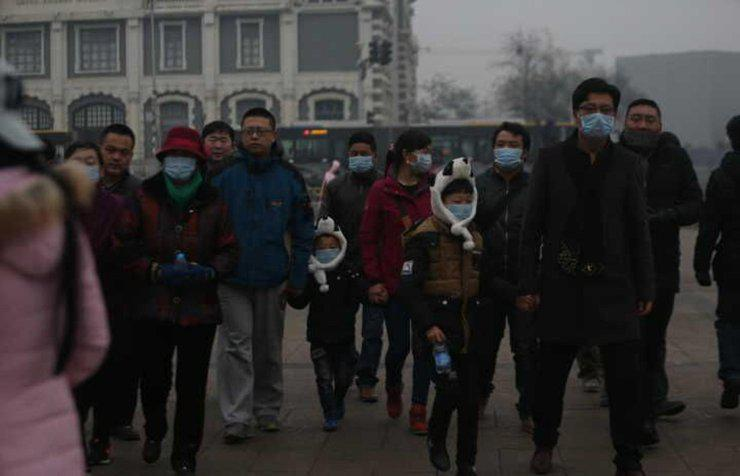NONE: (104, 142, 132, 175), (244, 122, 273, 152), (208, 137, 233, 160)
OK: (578, 98, 616, 136), (492, 138, 525, 171), (167, 152, 200, 181), (71, 156, 100, 186), (446, 194, 474, 223), (405, 147, 434, 174), (349, 146, 376, 173), (317, 238, 341, 266)
WRONG: (626, 108, 661, 143)
